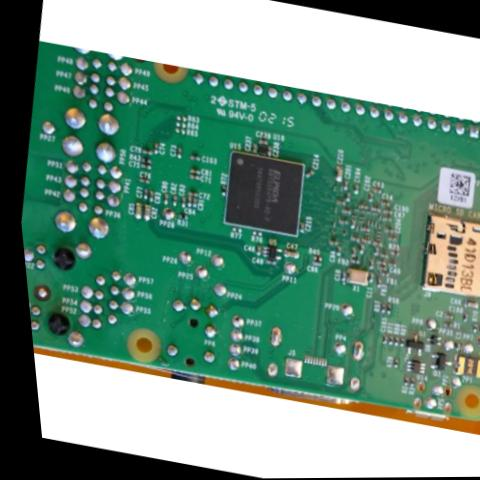Raspberry-Pi-2-Model-B: (3, 37, 480, 439)
